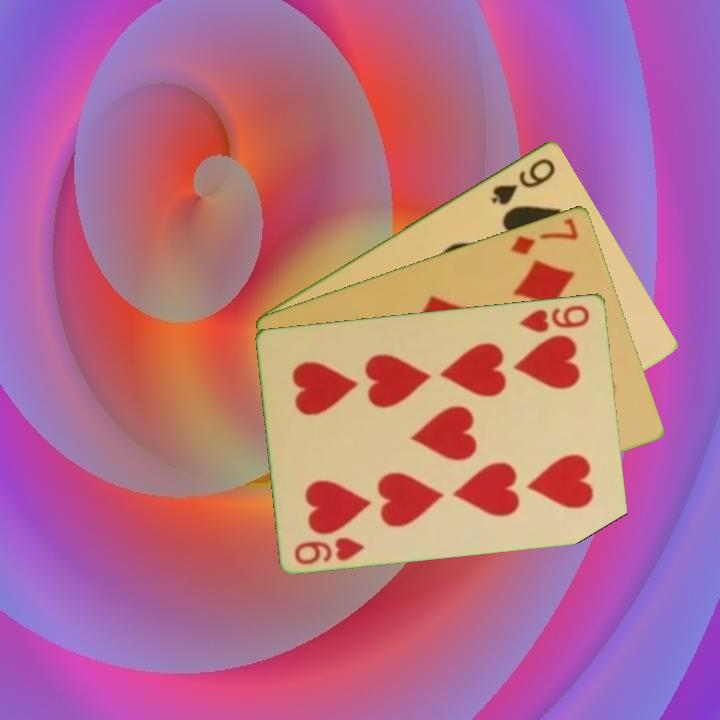7d: (507, 214, 581, 257)
9h: (291, 533, 369, 567), (516, 301, 593, 335)
9s: (487, 153, 559, 208)
